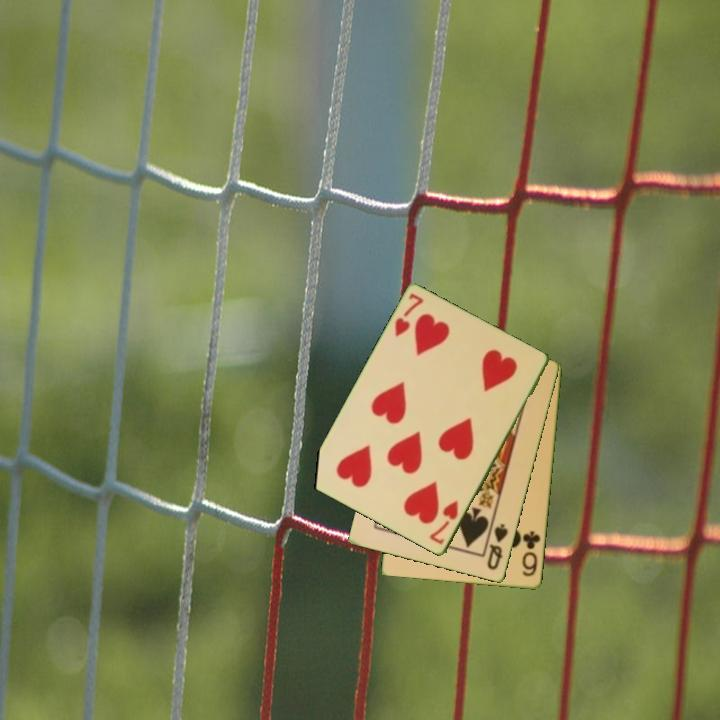6c: (519, 528, 544, 579)
7h: (426, 497, 461, 548), (391, 290, 426, 340)
Qs: (484, 520, 511, 573)
